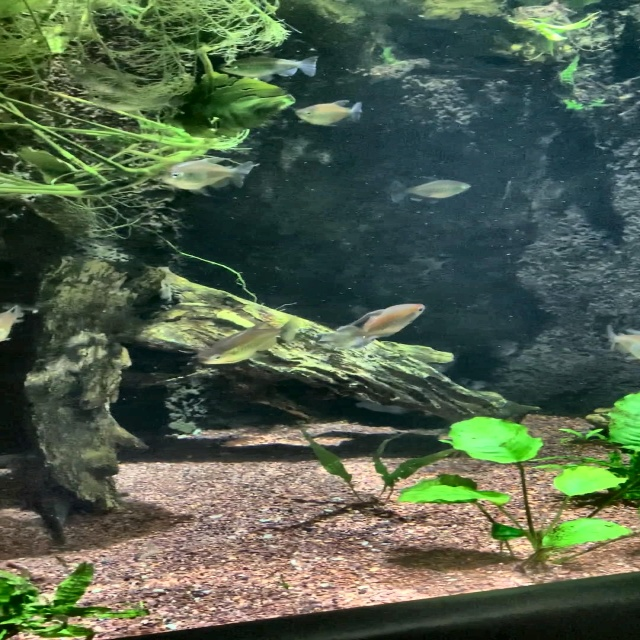fish: (316, 302, 429, 353), (198, 317, 296, 367), (153, 156, 260, 195), (218, 52, 323, 85), (294, 98, 367, 129), (601, 321, 639, 367), (388, 180, 474, 200), (0, 304, 28, 346)
